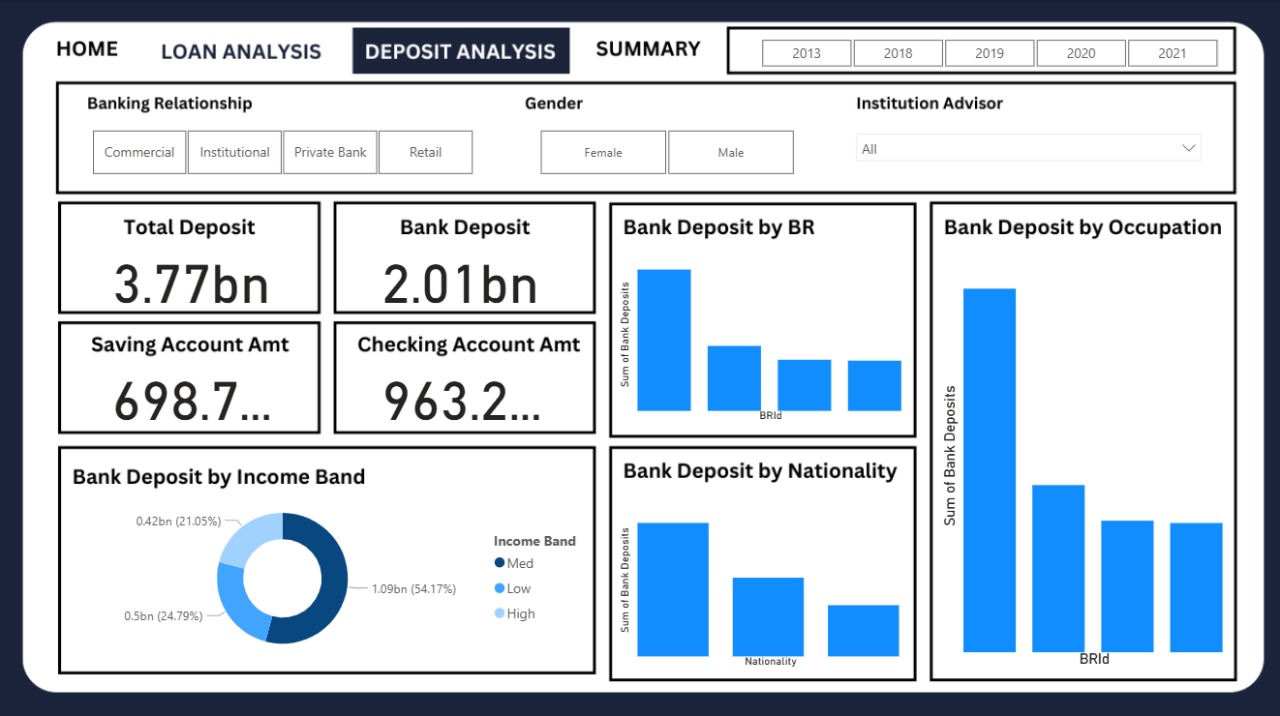

This screenshot's page, from the dashboard's own definition file:
{"tool":"powerbi","page":{"name":"Deposit Analysis","canvas":[1280,720],"ordinal":3},"visuals":[{"type":"slicer","fields":{"Values":["banking_case customer.Year of Joining"]},"box":[733.3,32.2,504.1,34.9],"z":0},{"type":"actionButton","box":[36.4,31.7,99.7,39.6],"z":1000},{"type":"actionButton","box":[348.2,31.7,221.6,39.6],"z":2000},{"type":"actionButton","box":[587.1,31.7,123.4,39.6],"z":3000},{"type":"card","fields":{"Values":["banking_case customer.Total Deposit"]},"box":[100.9,243.7,179.5,65.5],"z":4000},{"type":"card","fields":{"Values":["Sum(banking_case customer.Bank Deposits)"]},"box":[369.5,243.7,179.5,65.5],"z":5000},{"type":"card","fields":{"Values":["Sum(banking_case customer.Saving Accounts)"]},"box":[100.9,360.4,179.5,65.5],"z":6000},{"type":"card","fields":{"Values":["Sum(banking_case customer.Checking Accounts)"]},"box":[370.8,360.4,179.5,65.5],"z":7000},{"type":"donutChart","fields":{"Category":["banking_case customer.Income Band"],"Y":["Sum(banking_case customer.Bank Deposits)"]},"box":[66.8,488.8,530.7,176.9],"z":8000},{"type":"clusteredColumnChart","fields":{"Category":["banking_case customer.BRId"],"Y":["Sum(banking_case customer.Bank Deposits)"]},"box":[613.3,243.7,293.5,182.1],"z":9000},{"type":"clusteredColumnChart","fields":{"Category":["banking_case customer.Nationality"],"Y":["Sum(banking_case customer.Bank Deposits)"]},"box":[613.3,488.8,293.5,182.1],"z":10000},{"type":"slicer","fields":{"Values":["banking_case customer.BRId"]},"box":[66.8,123.2,428.5,57.7],"z":11000},{"type":"slicer","fields":{"Values":["banking_case customer.GenderId"]},"box":[512.4,123.2,302.7,57.7],"z":12000},{"type":"slicer","fields":{"Values":["banking_case customer.IAId"]},"box":[843.9,123.2,364.3,57.7],"z":13000},{"type":"clusteredColumnChart","fields":{"Category":["banking_case customer.BRId"],"Y":["Sum(banking_case customer.Bank Deposits)"]},"box":[933.7,245.3,292.8,425.7],"z":14000},{"type":"actionButton","box":[136.3,27.5,196.6,40.6],"z":15000}]}

Visuals, with their boxes in screenshot pixels (x1, y1, x2, y2), scaled from the page's 1280x720 canvas onto the 1280x716 screenshot:
slicer - banking_case customer.Year of Joining: crop(733, 32, 1237, 67)
actionButton: crop(36, 32, 136, 71)
actionButton: crop(348, 32, 570, 71)
actionButton: crop(587, 32, 710, 71)
card - banking_case customer.Total Deposit: crop(101, 242, 280, 307)
card - Sum(banking_case customer.Bank Deposits): crop(370, 242, 549, 307)
card - Sum(banking_case customer.Saving Accounts): crop(101, 358, 280, 424)
card - Sum(banking_case customer.Checking Accounts): crop(371, 358, 550, 424)
donutChart - banking_case customer.Income Band x Sum(banking_case customer.Bank Deposits): crop(67, 486, 598, 662)
clusteredColumnChart - banking_case customer.BRId x Sum(banking_case customer.Bank Deposits): crop(613, 242, 907, 423)
clusteredColumnChart - banking_case customer.Nationality x Sum(banking_case customer.Bank Deposits): crop(613, 486, 907, 667)
slicer - banking_case customer.BRId: crop(67, 123, 495, 180)
slicer - banking_case customer.GenderId: crop(512, 123, 815, 180)
slicer - banking_case customer.IAId: crop(844, 123, 1208, 180)
clusteredColumnChart - banking_case customer.BRId x Sum(banking_case customer.Bank Deposits): crop(934, 244, 1226, 667)
actionButton: crop(136, 27, 333, 68)
